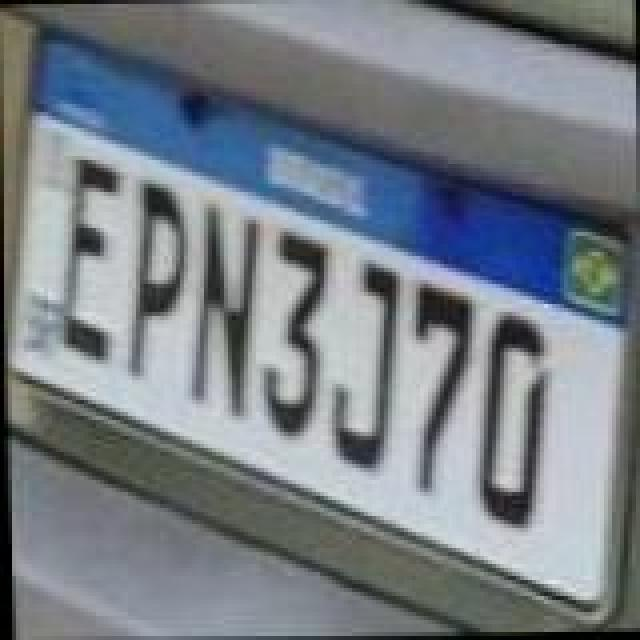3: (258, 230, 334, 438)
7: (410, 284, 482, 500)
D: (470, 308, 550, 528)
E: (52, 158, 128, 362)
J: (326, 262, 402, 470)
N: (186, 202, 270, 422)
P: (120, 182, 192, 382)
